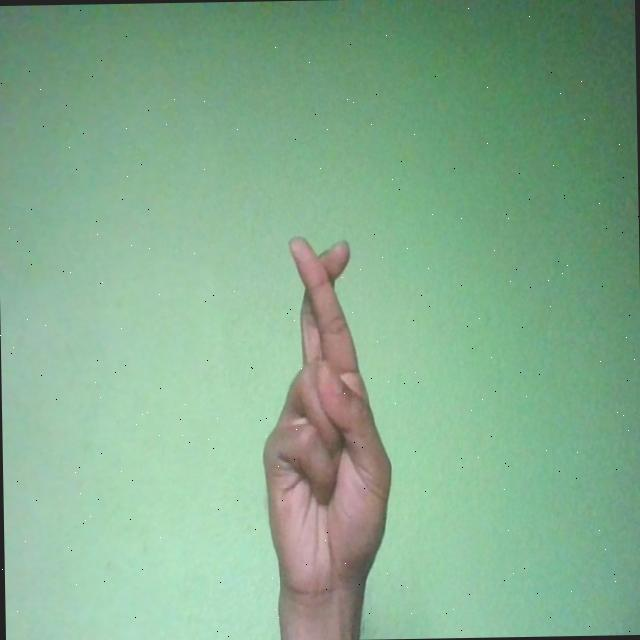Ok: (258, 232, 394, 607)
